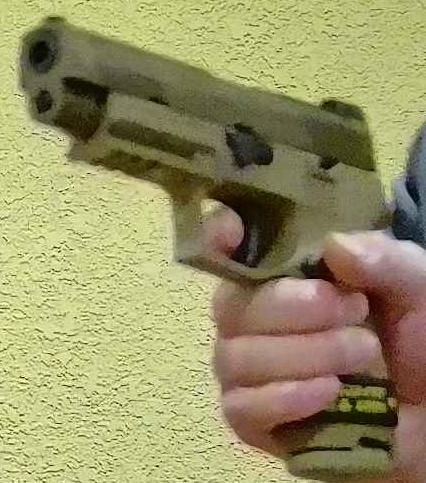gun: (1, 1, 426, 483)
